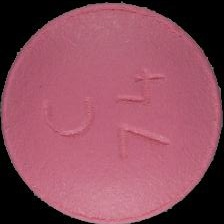66267-240: (0, 0, 224, 224)
